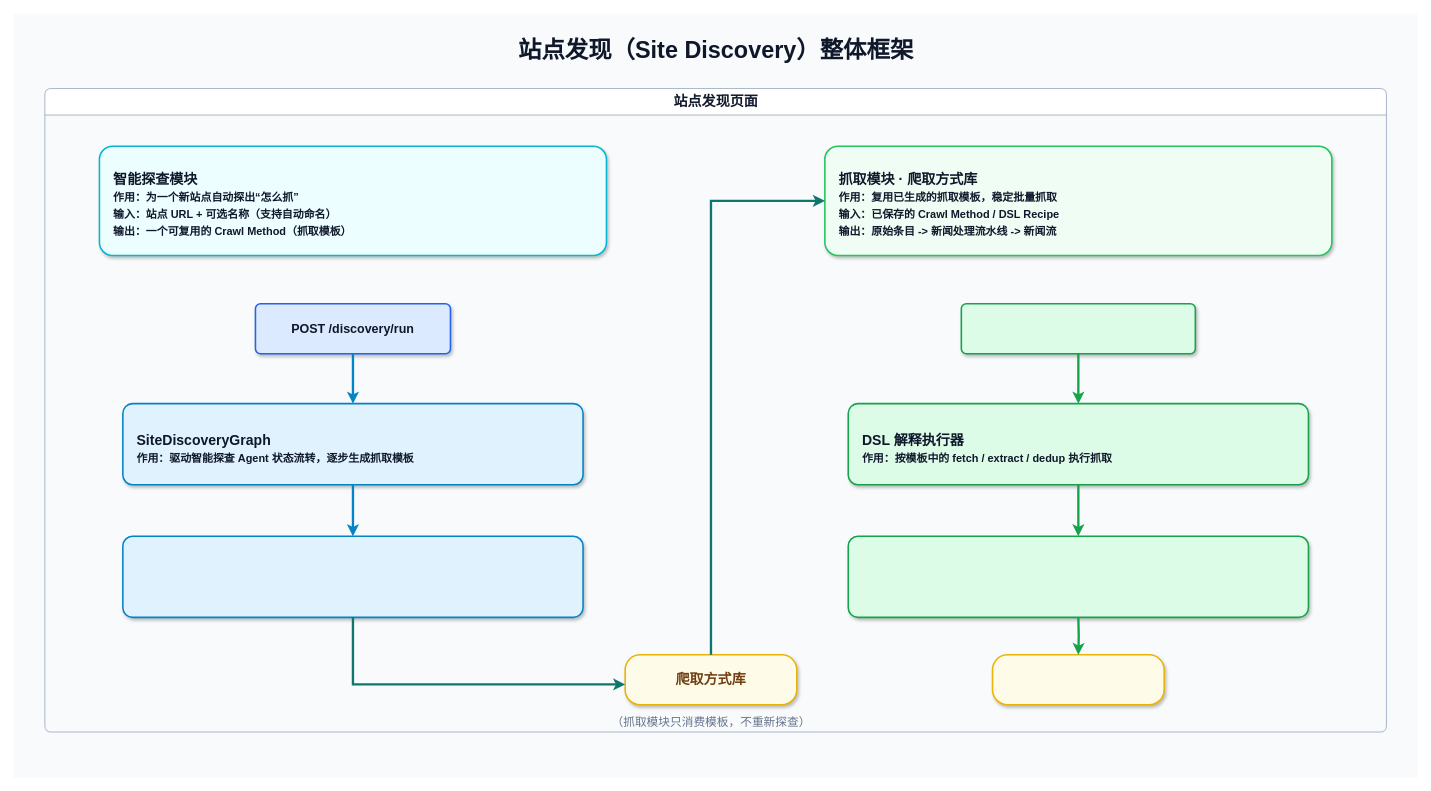
Some shapes in this 1431 by 791 pixel diagram are drawn without their labels. The centre of each missing label's shape, as x and y in pixels:
POST /discovery/methods/{id}/fetch: (1078,330)
新闻处理流水线 作用：去重、富化、评分、摘要生成、最终入库: (1079,577)
新闻资料库: (1078,681)
模板存储模块 作用：保存 Crawl Method + Source，并沉淀到爬取方式库: (353,577)
